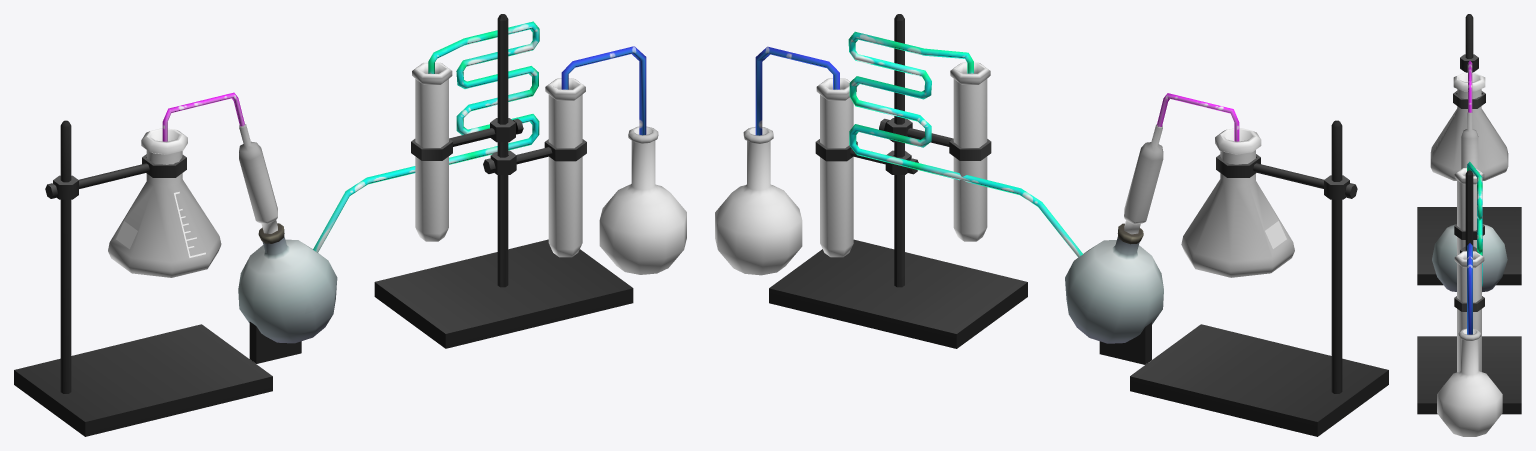
The model's file is CR_sci_UVscroll.FBX.
3 renders of one model, left to right at view 1: azimuth 30°, elevation 25°; view 2: azimuth 150°, elevation 25°; view 3: azimuth 270°, elevation 25°, orthographic. The views are drawn at different scales.
Visible parts, largest first — view 1: CR_sci_UVscroll, UVscroll; view 2: CR_sci_UVscroll, UVscroll; view 3: CR_sci_UVscroll, UVscroll.
Boxes of the visible parts, x1=… form: CR_sci_UVscroll: x1=14, y1=14, x2=686, y2=436; UVscroll: x1=162, y1=21, x2=646, y2=252; CR_sci_UVscroll: x1=715, y1=14, x2=1388, y2=436; UVscroll: x1=755, y1=31, x2=1239, y2=257; CR_sci_UVscroll: x1=1417, y1=14, x2=1521, y2=436; UVscroll: x1=1467, y1=61, x2=1482, y2=334.
Size of the model in its own units: 72.61 by 14.21 by 31.46.
